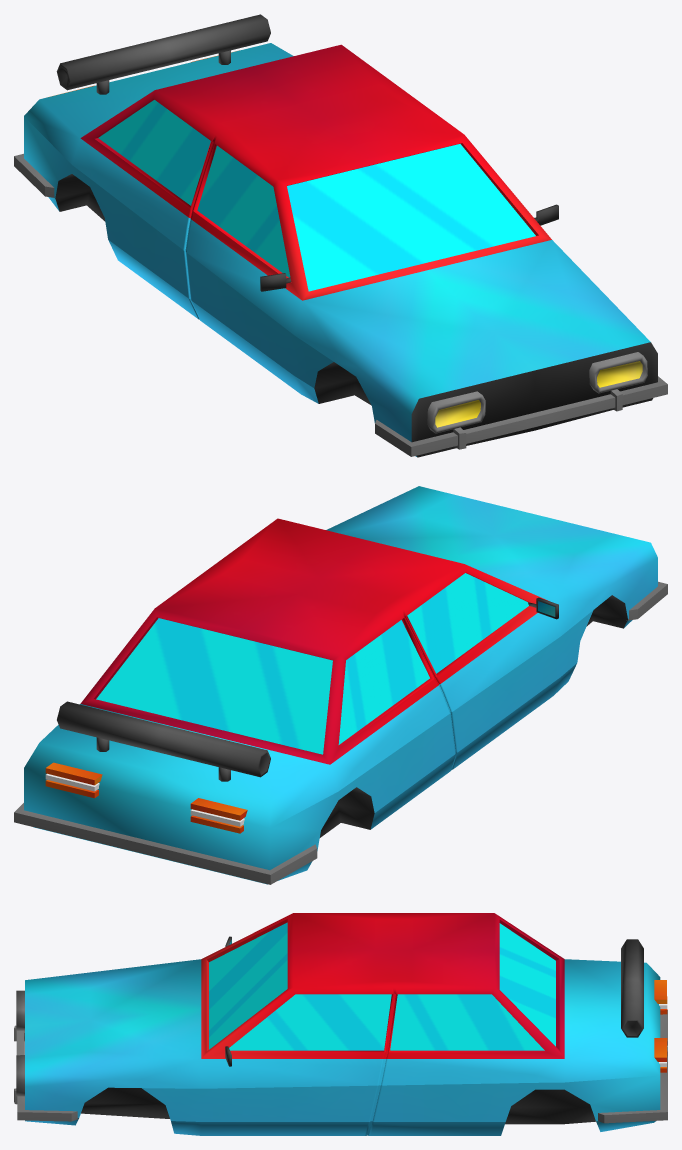
File: Car_7.fbx
3 views of the same model, one above another, from view 1: azimuth 30°, elevation 25°; view 2: azimuth 150°, elevation 25°; view 3: azimuth 270°, elevation 25° (orthographic). The views are drawn at different scales.
Visible parts, largest first — view 1: Car_7; view 2: Car_7; view 3: Car_7.
Part boxes in pixels (x1,y1,x2,y2): Car_7: (14, 14, 667, 457); Car_7: (14, 486, 667, 884); Car_7: (14, 913, 667, 1135).
Bounding box in the file's own units: 246 × 132 × 572.
2 materials, 2 textured.
